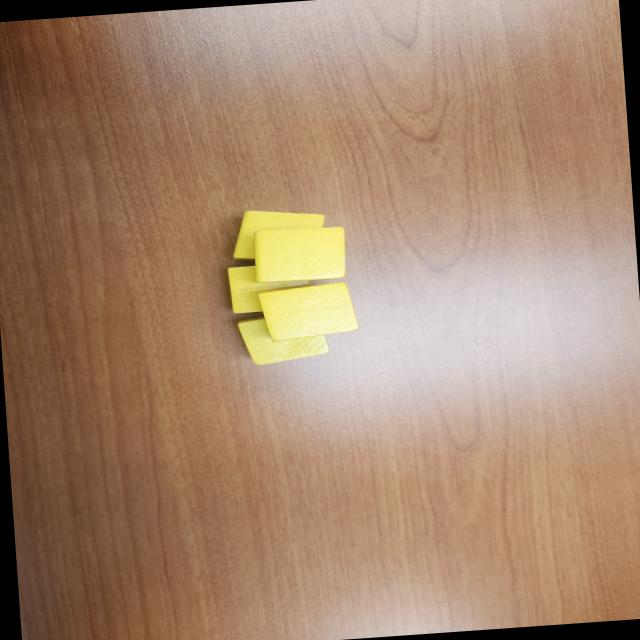yellow: (257, 280, 361, 343), (250, 222, 350, 284), (227, 204, 329, 261), (234, 310, 331, 368), (226, 260, 314, 314)
